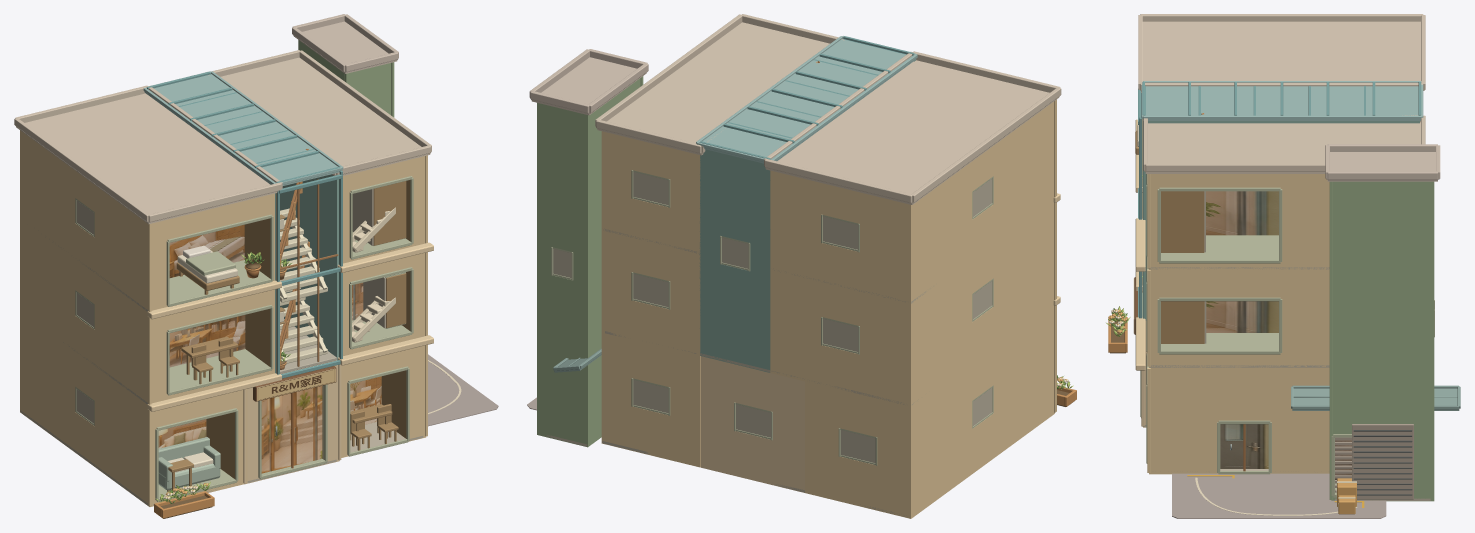
3 renders of one model, left to right at view 1: azimuth 30°, elevation 25°; view 2: azimuth 150°, elevation 25°; view 3: azimuth 270°, elevation 25°, orthographic. The views are drawn at different scales.
Parts seen in each view (by area): view 1: SM_16_01_建筑墙体, SM_16_02_曲面屋顶, SM_16_04_门窗楼梯, SM_16_03_木构回廊, SM_16_06_景观设施, SM_16_06_院内及专用铺地, SM_16_05_景观植物; view 2: SM_16_01_建筑墙体, SM_16_02_曲面屋顶, SM_16_04_门窗楼梯, SM_16_03_木构回廊; view 3: SM_16_01_建筑墙体, SM_16_02_曲面屋顶, SM_16_04_门窗楼梯, SM_16_06_院内及专用铺地, SM_16_03_木构回廊, SM_16_05_景观植物, SM_16_06_景观设施.
Part boxes in pixels (x1=…): SM_16_01_建筑墙体: x1=20, y1=40, x2=426, y2=506; SM_16_02_曲面屋顶: x1=14, y1=14, x2=431, y2=224; SM_16_04_门窗楼梯: x1=75, y1=149, x2=413, y2=501; SM_16_03_木构回廊: x1=147, y1=62, x2=433, y2=506; SM_16_06_景观设施: x1=158, y1=245, x2=398, y2=492; SM_16_06_院内及专用铺地: x1=428, y1=354, x2=498, y2=426; SM_16_05_景观植物: x1=154, y1=251, x2=291, y2=518; SM_16_01_建筑墙体: x1=537, y1=78, x2=1054, y2=518; SM_16_02_曲面屋顶: x1=529, y1=14, x2=1061, y2=372; SM_16_04_门窗楼梯: x1=551, y1=61, x2=993, y2=465; SM_16_03_木构回廊: x1=640, y1=60, x2=1060, y2=412; SM_16_01_建筑墙体: x1=1143, y1=121, x2=1434, y2=501; SM_16_02_曲面屋顶: x1=1138, y1=14, x2=1460, y2=410; SM_16_04_门窗楼梯: x1=1133, y1=89, x2=1434, y2=499; SM_16_06_院内及专用铺地: x1=1172, y1=473, x2=1386, y2=518; SM_16_03_木构回廊: x1=1135, y1=119, x2=1332, y2=499; SM_16_05_景观植物: x1=1106, y1=175, x2=1142, y2=353; SM_16_06_景观设施: x1=1135, y1=125, x2=1356, y2=514.
Bounding box in the file's own units: 11.67 × 9.32 × 9.07.
39 materials, 2 textured.
